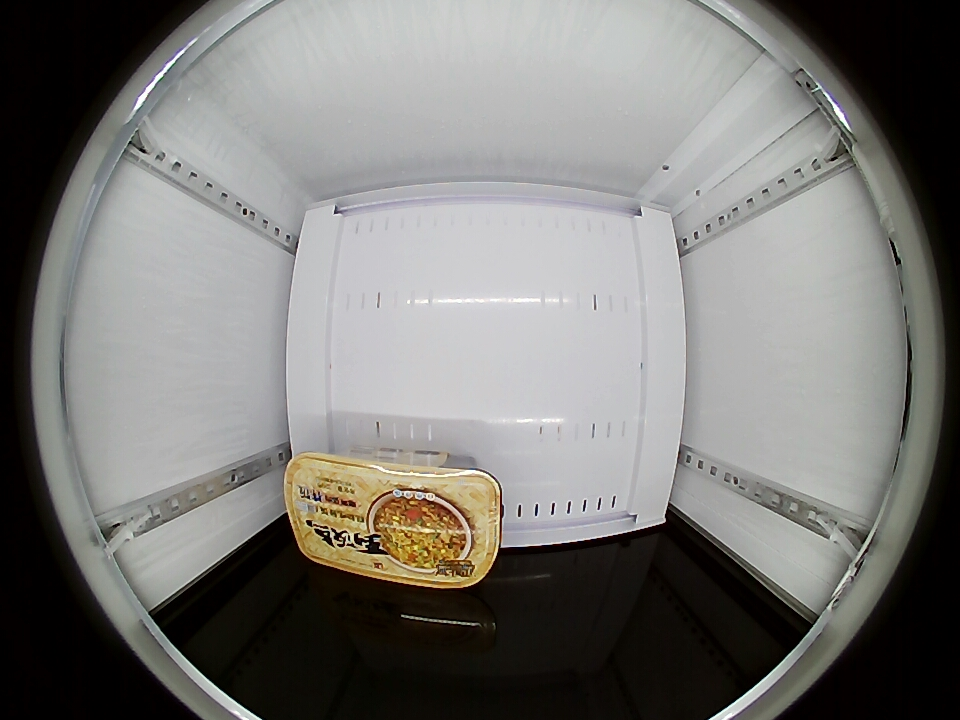daofandian3: (283, 451, 503, 589)
